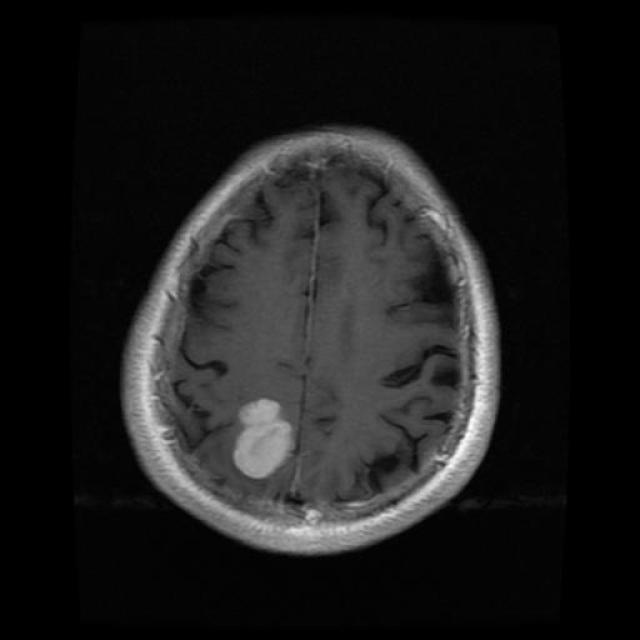meningioma: (232, 399, 292, 480)
